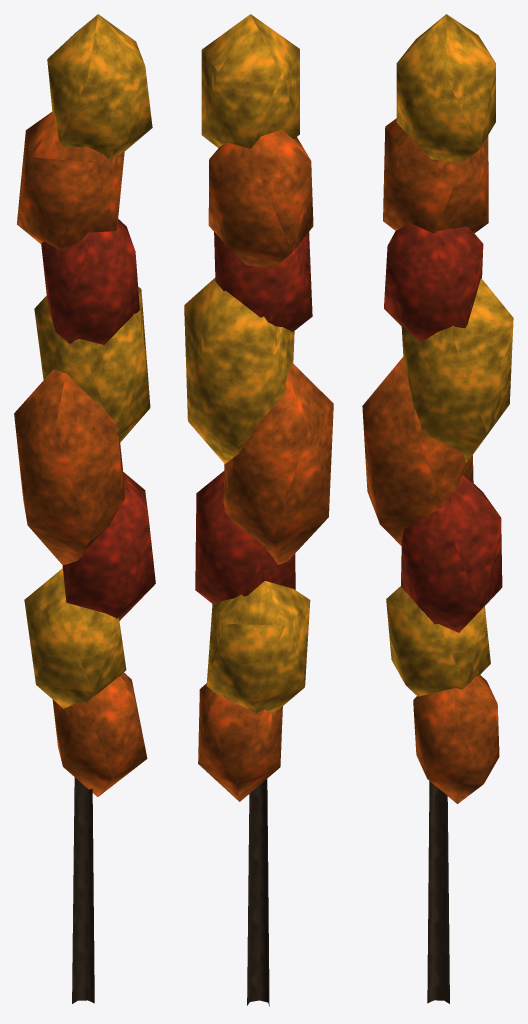
The model's file is poplar_autumn.glb.
3 views of the same model, side by side, from view 1: azimuth 30°, elevation 25°; view 2: azimuth 150°, elevation 25°; view 3: azimuth 330°, elevation 25° (orthographic).
Parts seen in each view (by area): view 1: poplar_autumn; view 2: poplar_autumn; view 3: poplar_autumn.
Part boxes in pixels (x1=…): poplar_autumn: x1=14, y1=14, x2=155, y2=1003; poplar_autumn: x1=184, y1=14, x2=333, y2=1006; poplar_autumn: x1=362, y1=14, x2=513, y2=1003.
Bounding box in the file's own units: 2.36 × 17.23 × 2.03.
Materials: 4 (4 with a texture image).
